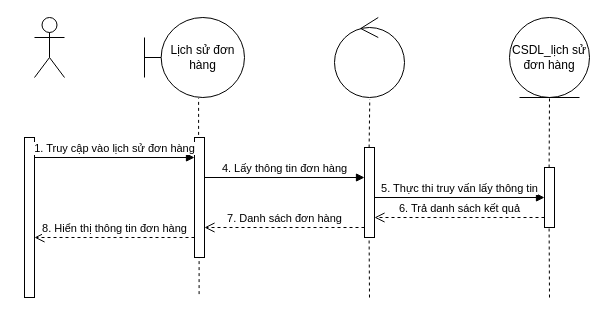
This 607x316 diagram has some shape labels left out. The shapes that lost their labels are listed below. From the top down, each one's centre as x and y in pixels, then its label:
At point (49, 47): "Khách hàng".
At point (369, 57): "Control_Lịch sử đơn hàng".
